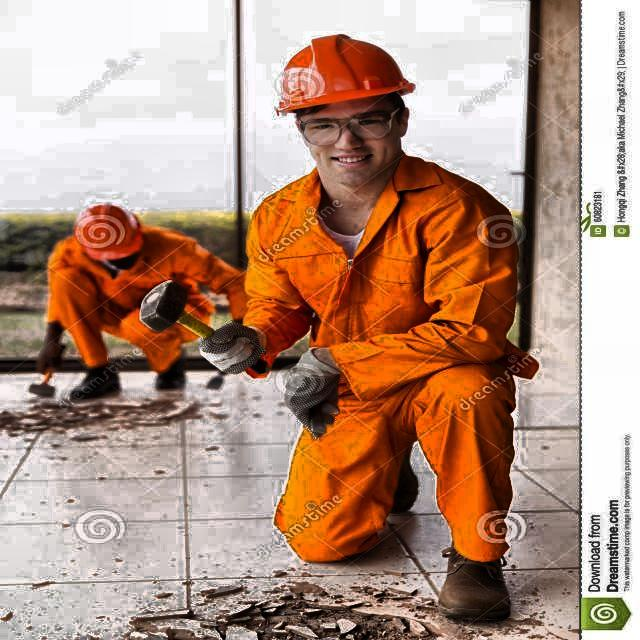person: (230, 28, 560, 622), (32, 188, 226, 400)
